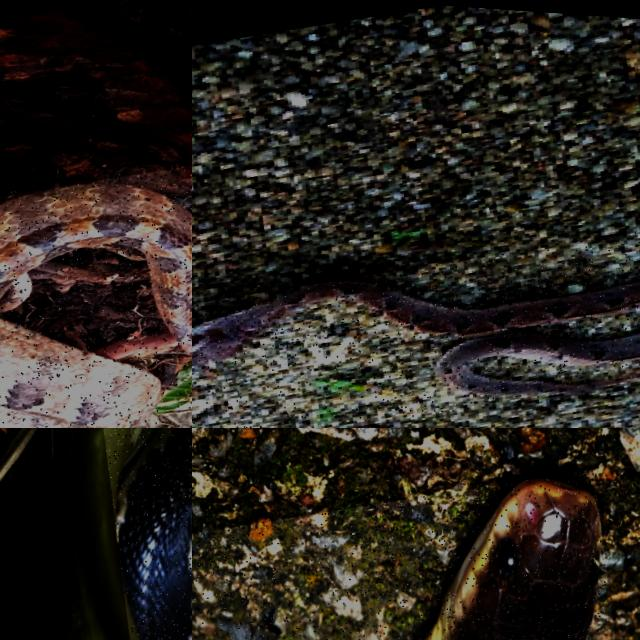Bungarus fasciatus: (425, 478, 601, 639)
Calloselasma rhodostoma: (192, 280, 639, 396), (0, 179, 191, 351)
Naja siamensis: (118, 428, 191, 639)
snake: (192, 280, 639, 396), (0, 179, 191, 351), (425, 478, 601, 639), (118, 428, 191, 639)
